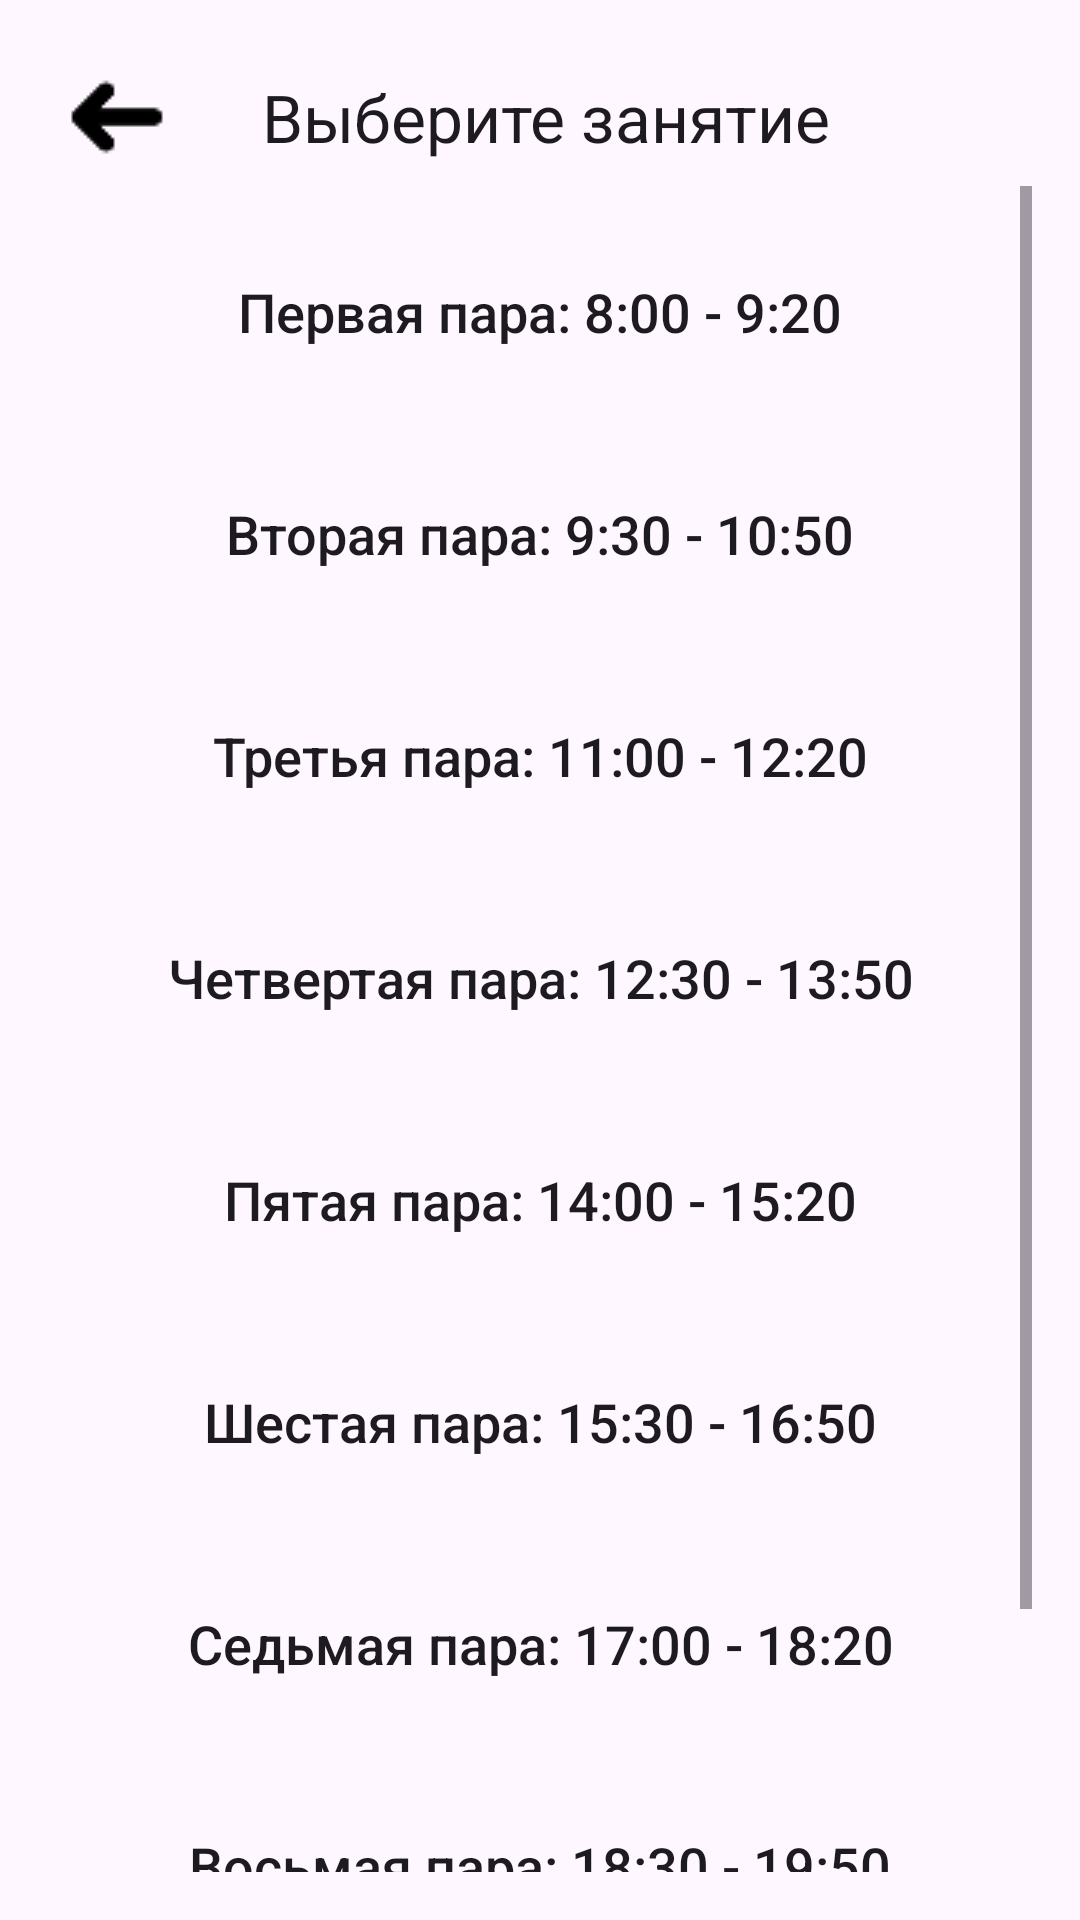

Screen size 1080 x 1920. Icon name, then its box in pixels as (x1,y1,x2,y2):
arrowback: (71,80,163,154)
